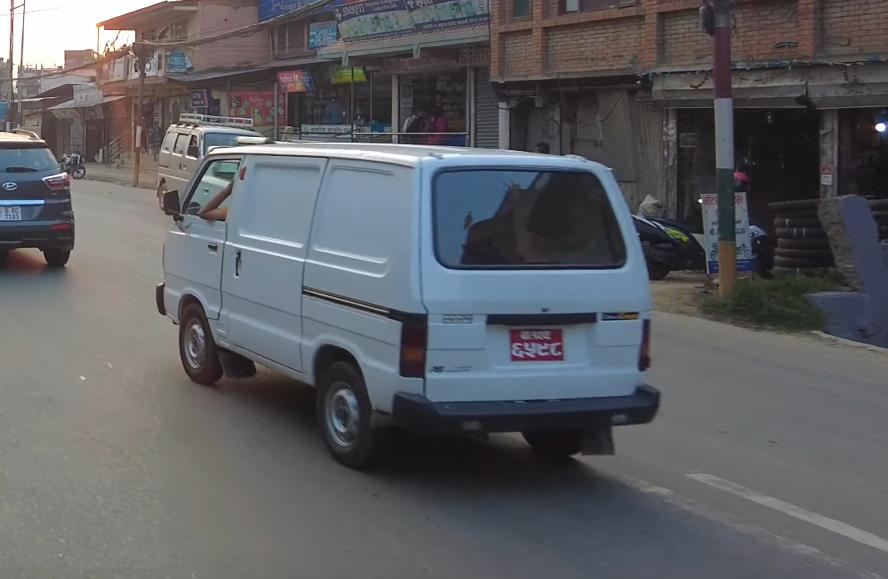car: (0, 120, 76, 277)
van: (149, 127, 665, 472), (154, 104, 266, 207)
